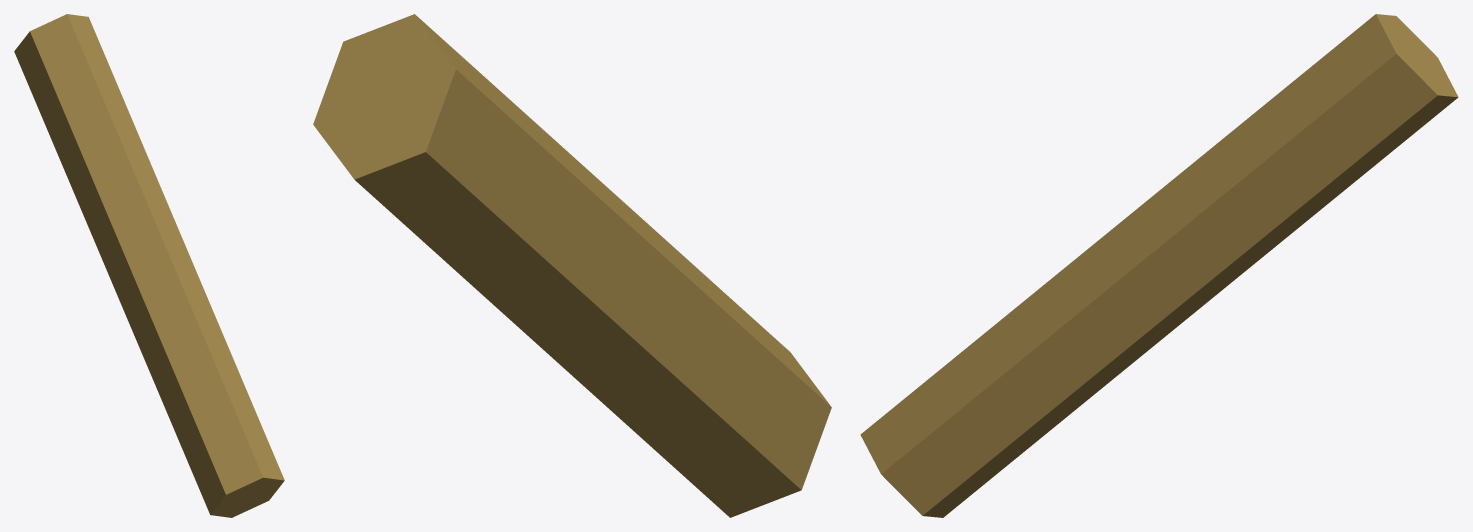
The model's file is VergeRollSlope.fbx.
The picture shows the model from 3 angles, left to right: view 1: azimuth 30°, elevation 25°; view 2: azimuth 150°, elevation 25°; view 3: azimuth 270°, elevation 25°; orthographic projection. The views are drawn at different scales.
Parts seen in each view (by area): view 1: Kit_VergeRollSlope; view 2: Kit_VergeRollSlope; view 3: Kit_VergeRollSlope.
Part boxes in pixels (<box>): Kit_VergeRollSlope: <box>14,14,284,517</box>; Kit_VergeRollSlope: <box>313,14,831,517</box>; Kit_VergeRollSlope: <box>860,14,1458,517</box>.
Bounding box in the file's own units: 0.1732 × 1.08 × 1.16.
